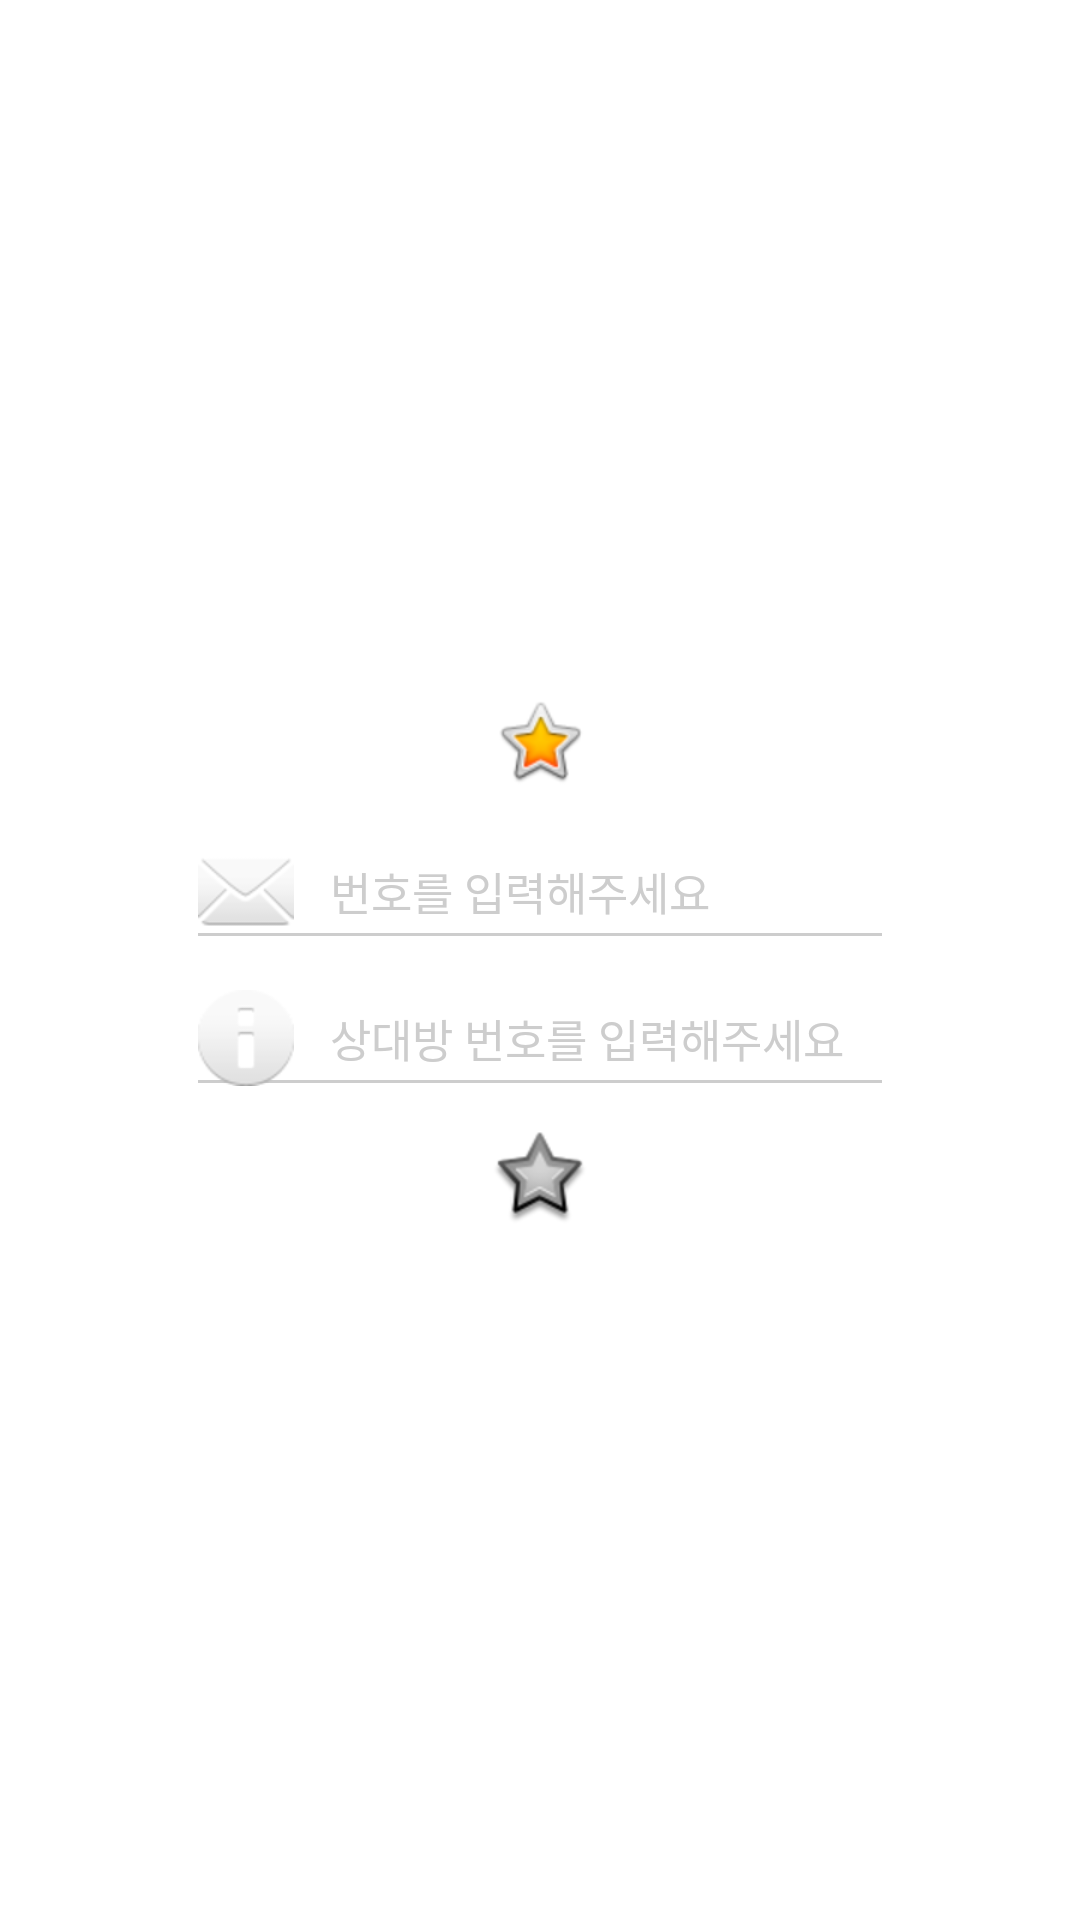

Icon click points for this 1080x1920 phone screenshot, format [x,y]:
star off: [540,1175]
star on: [541,742]
